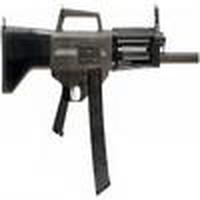gun: (1, 21, 200, 107)
